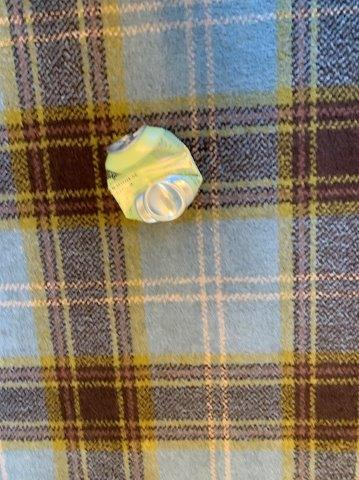kaleng: (104, 124, 203, 223)
